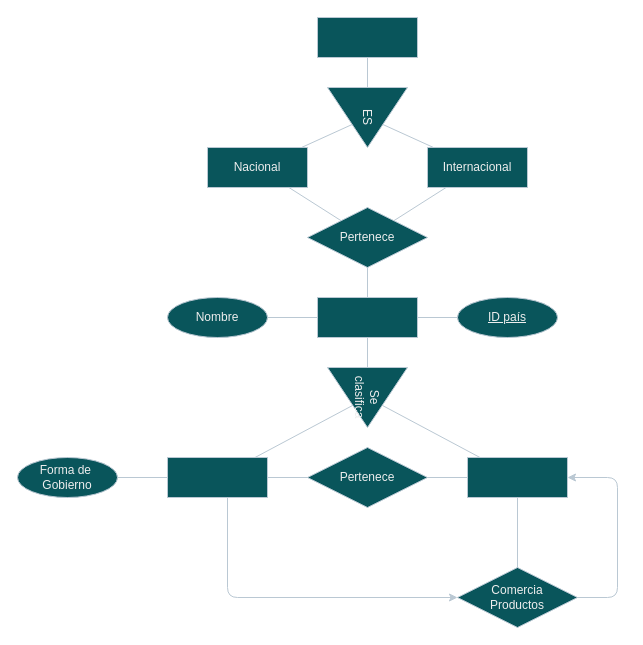
Some shapes in this 643 by 645 pixel diagram are drawn without their labels. The centre of each missing label's shape, as x and y in pixels:
"Colonia" belongs at point (217, 477).
"Independiente" belongs at point (517, 477).
"País" belongs at point (367, 317).
"Rio" belongs at point (367, 37).
